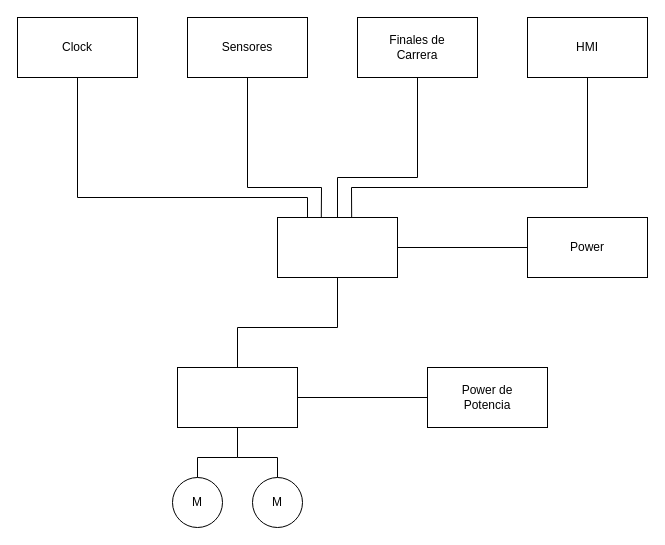
The diagram is 665 pixels wide and 545 high, and some of its shapes have lost their labels. Each missing label, with the box of its shape:
Driver Motores: (176, 366, 298, 428)
MCU: (276, 216, 398, 278)
